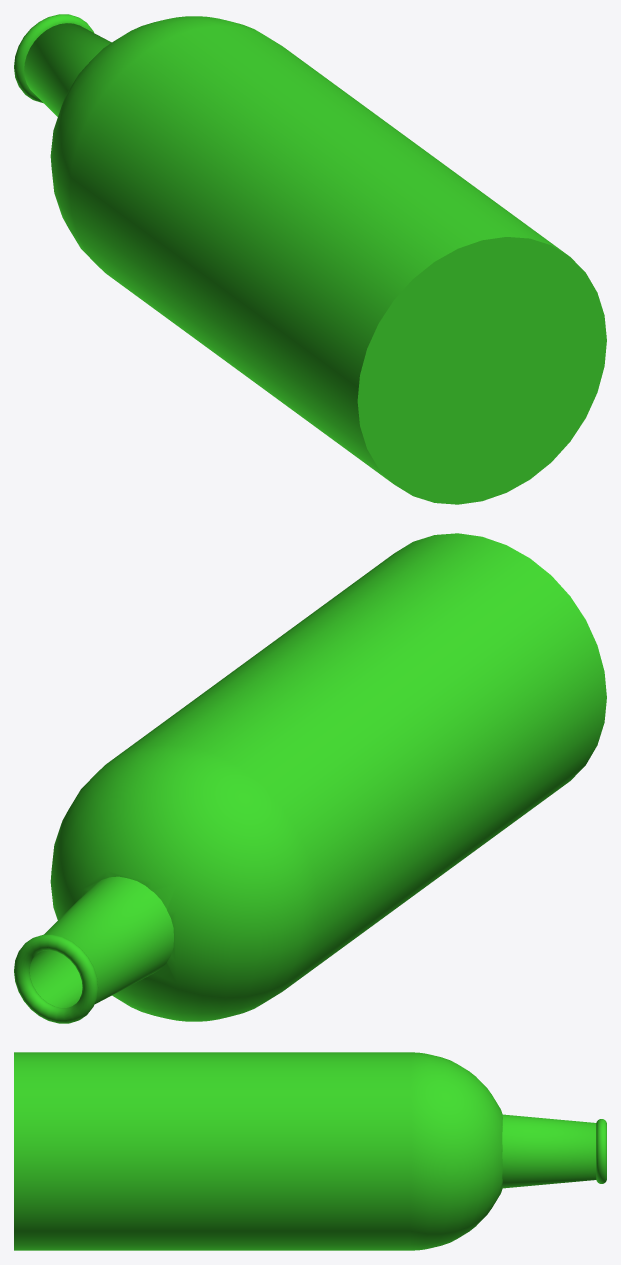
File: flaske.fbx
The picture shows the model from 3 angles, top to bottom: view 1: azimuth 30°, elevation 25°; view 2: azimuth 150°, elevation 25°; view 3: azimuth 270°, elevation 25°; orthographic projection. The views are drawn at different scales.
Parts seen in each view (by area): view 1: Sphere; view 2: Sphere; view 3: Sphere.
Part boxes in pixels (bbox=[...]): Sphere: bbox=[14, 14, 606, 504]; Sphere: bbox=[14, 533, 606, 1023]; Sphere: bbox=[14, 1052, 606, 1250].
Size of the model in its own units: 200 by 200 by 597.
